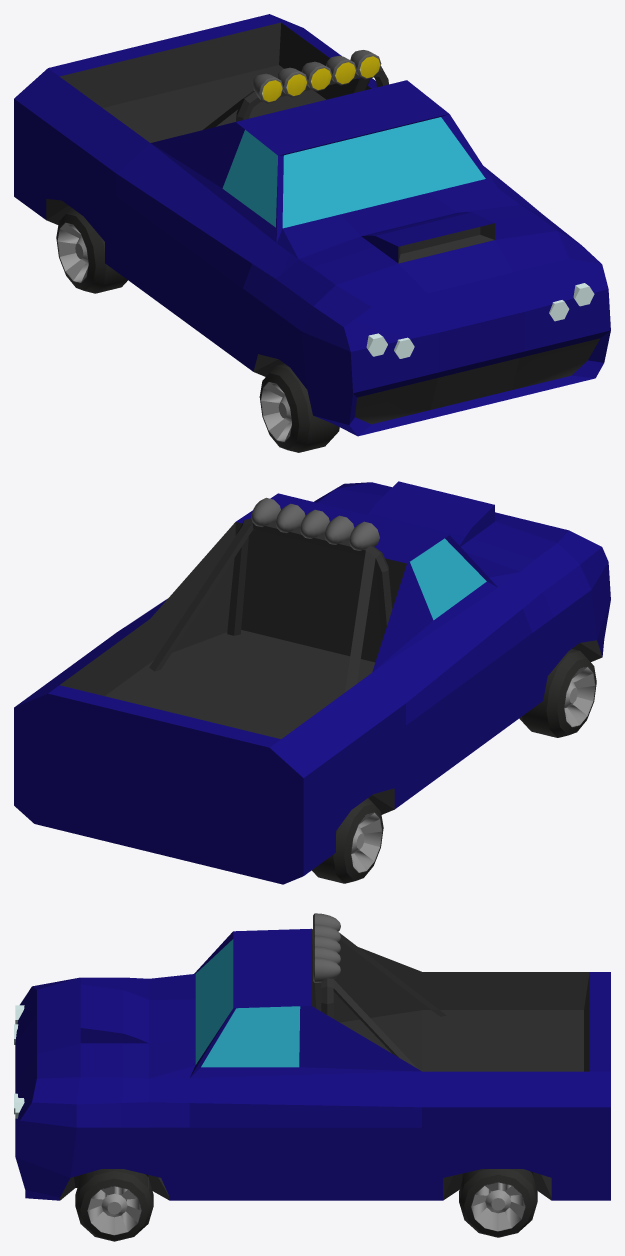
The model's file is autoblauw.fbx.
3 renders of one model, top to bottom at view 1: azimuth 30°, elevation 25°; view 2: azimuth 150°, elevation 25°; view 3: azimuth 270°, elevation 25°, orthographic. The views are drawn at different scales.
Parts seen in each view (by area): view 1: pCylinder24, rechts_achter3; view 2: pCylinder24, rechts_achter3; view 3: pCylinder24, rechts_achter3.
Boxes of the visible parts, <box> form: pCylinder24: <box>14,14,610,436</box>; rechts_achter3: <box>56,208,339,452</box>; pCylinder24: <box>14,481,610,884</box>; rechts_achter3: <box>312,649,596,883</box>; pCylinder24: <box>14,913,610,1200</box>; rechts_achter3: <box>75,1169,537,1241</box>.
Bounding box in the file's own units: 2.08 × 1.78 × 3.88.
